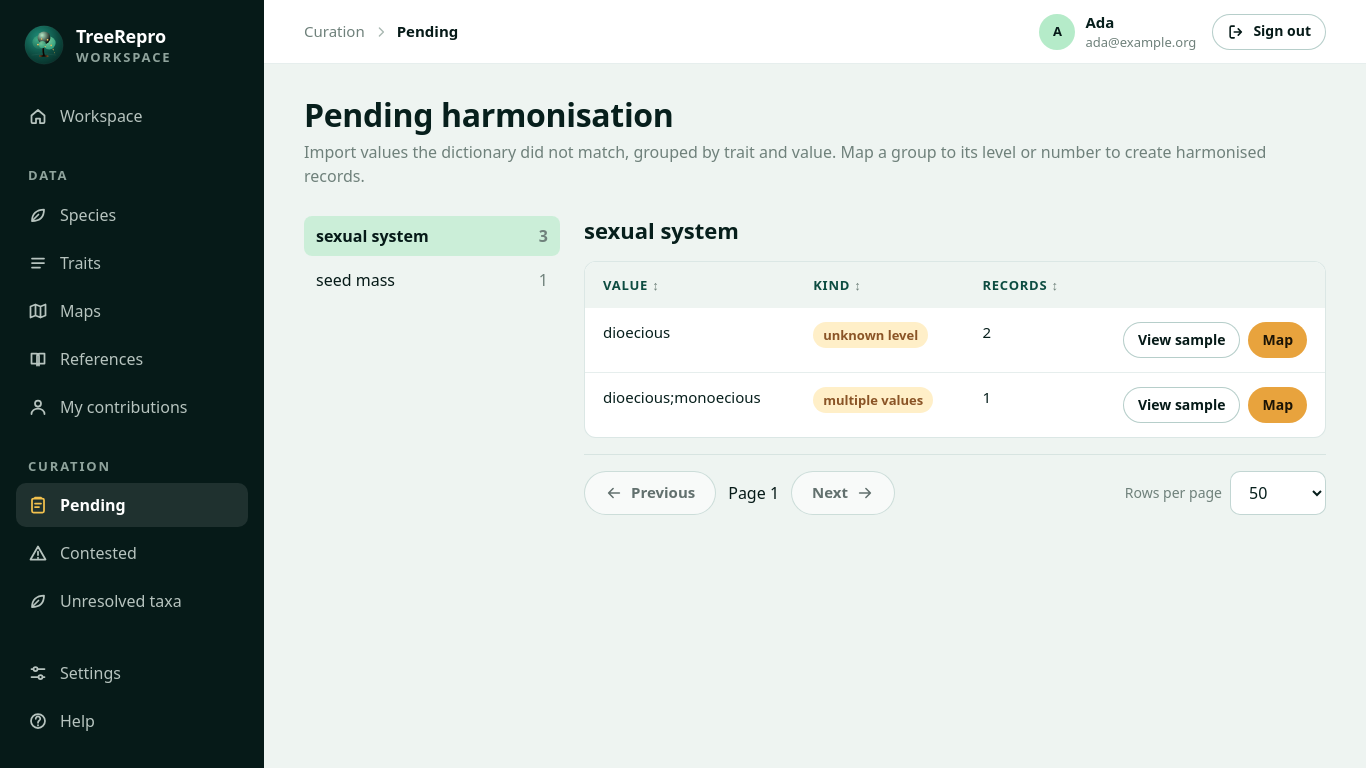
it: RFC-65 R7–R9 PendingPage › lists the traits with counts, selects the first, shows its groups, opens a sample and maps a group
Expected: the button "seed mass 1" is shown, left=304, top=260, right=560, bottom=300
Expected: the row "dioecious unknown level 2 View sample Map" is shown, left=585, top=308, right=1325, bottom=373
Click the button "View sample" in the row of "unknown level".
click(1182, 340)  # box left=1123, top=322, right=1240, bottom=358
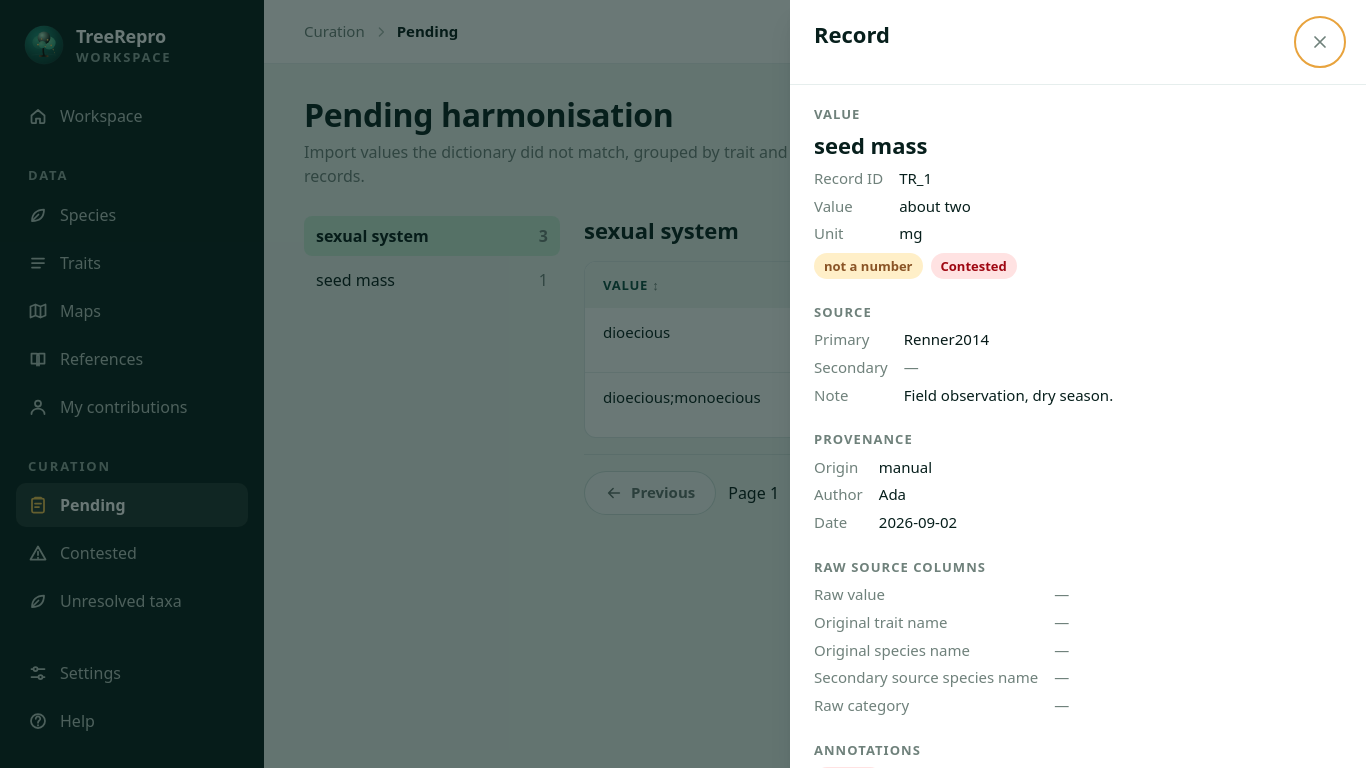
Now the dialog "Record" is shown, box left=790, top=0, right=1365, bottom=767
Click the button named "Close".
click(1320, 42)  # box left=1298, top=20, right=1342, bottom=64
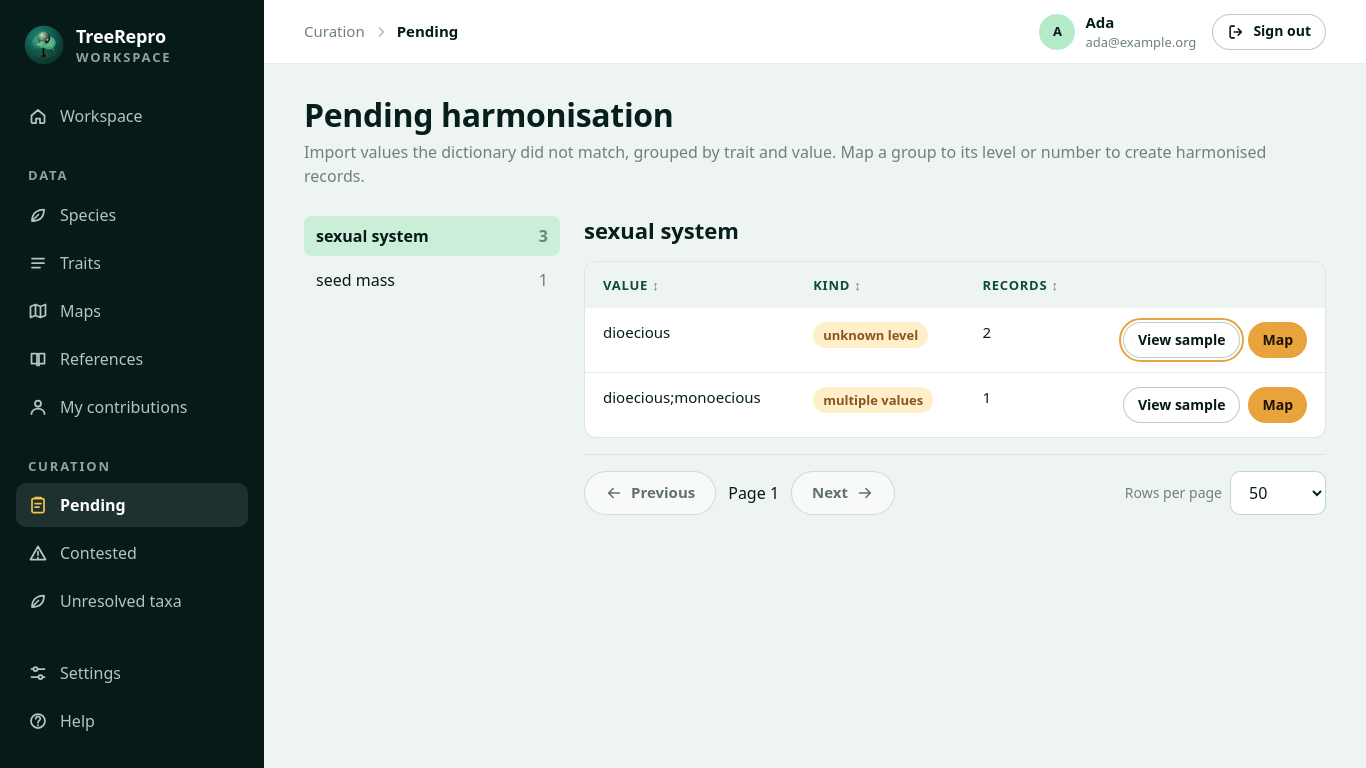
Click the button "Map" in the row of "unknown level".
click(1278, 340)  # box left=1248, top=322, right=1307, bottom=358
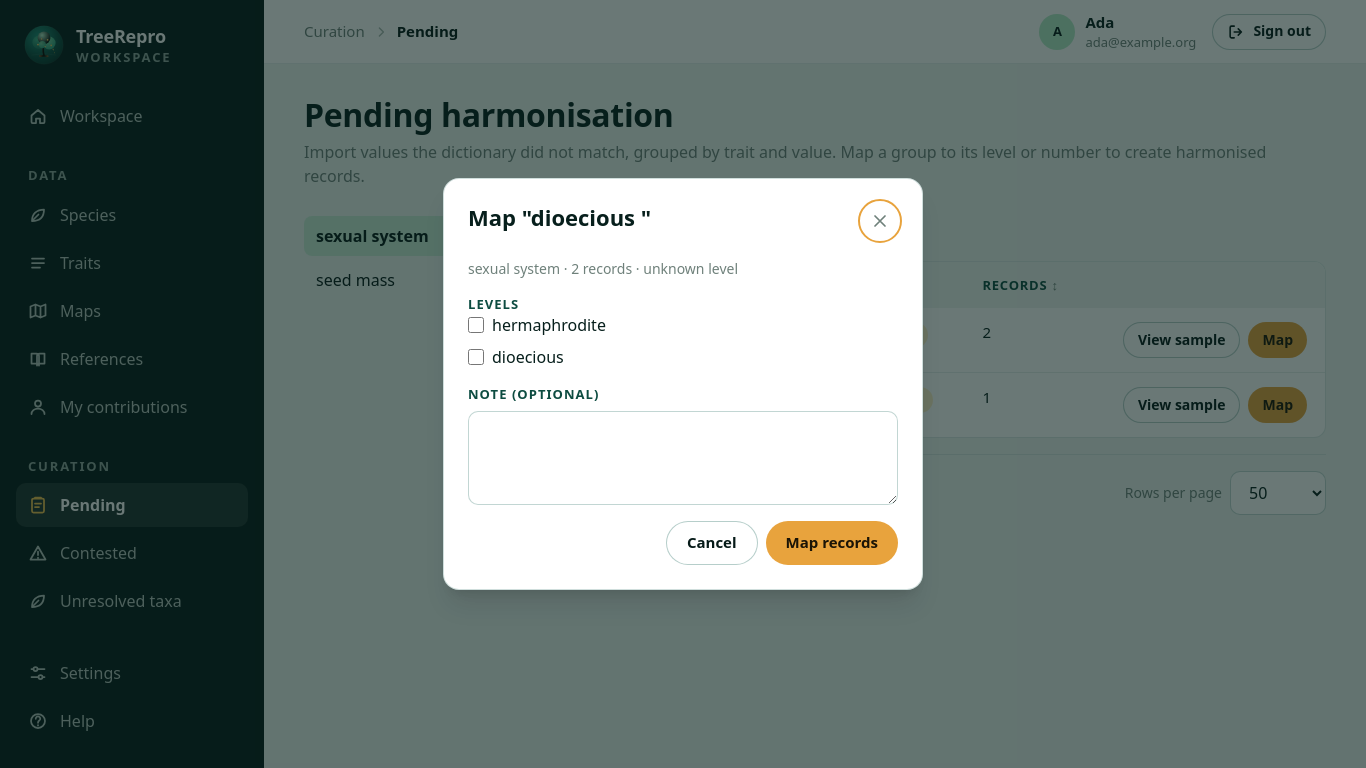
Click the checkbox labelled "dioecious".
click(476, 357)  # box left=468, top=349, right=484, bottom=365
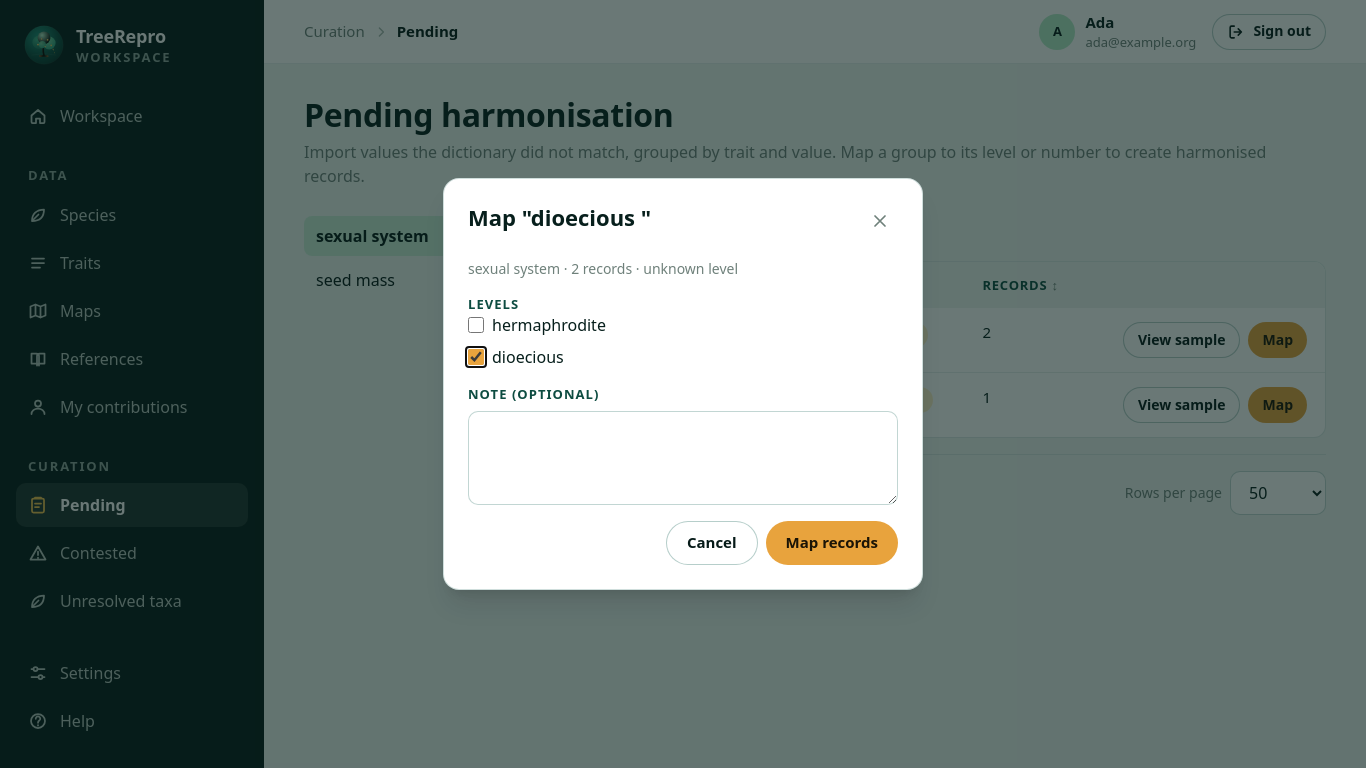
Click the button "Map records".
click(832, 543)  # box left=766, top=521, right=898, bottom=565
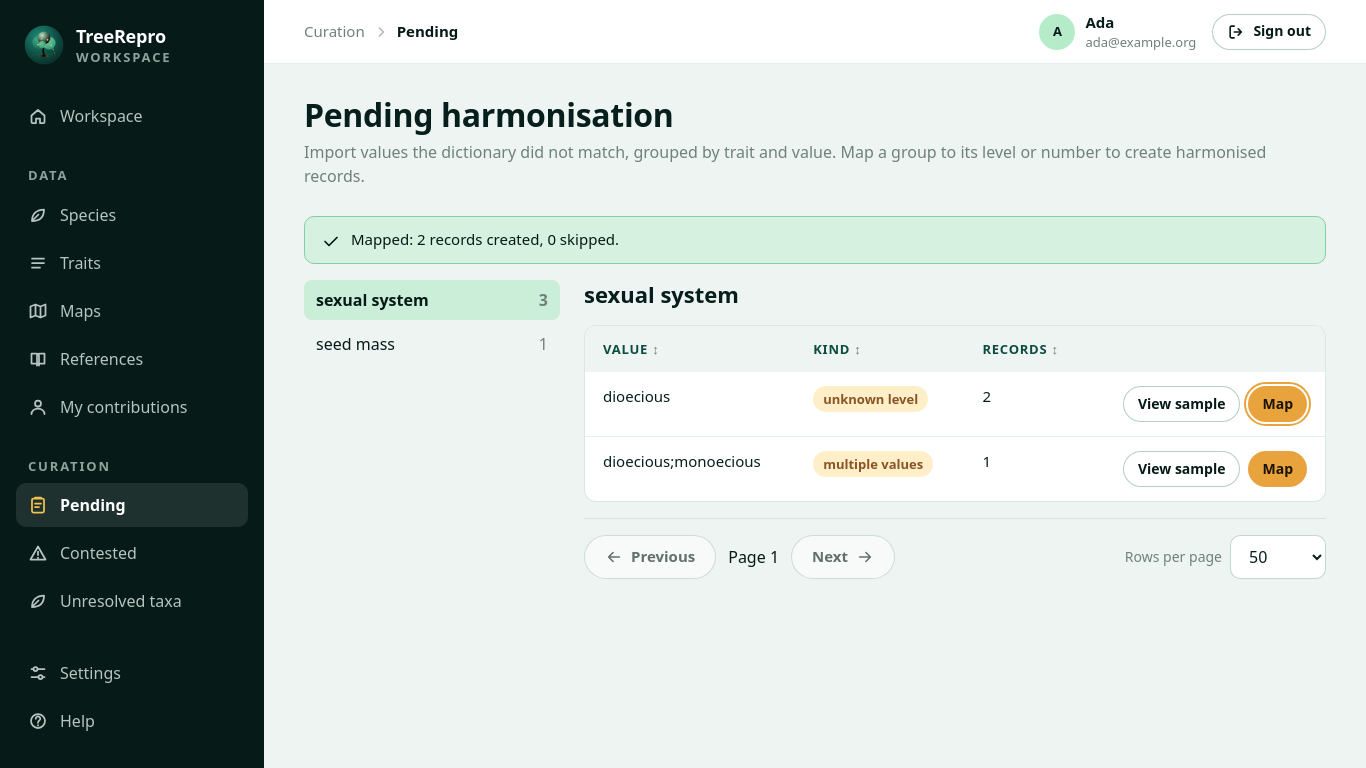
Now the message shows "2 records created, 0 skipped", box left=351, top=229, right=619, bottom=249
